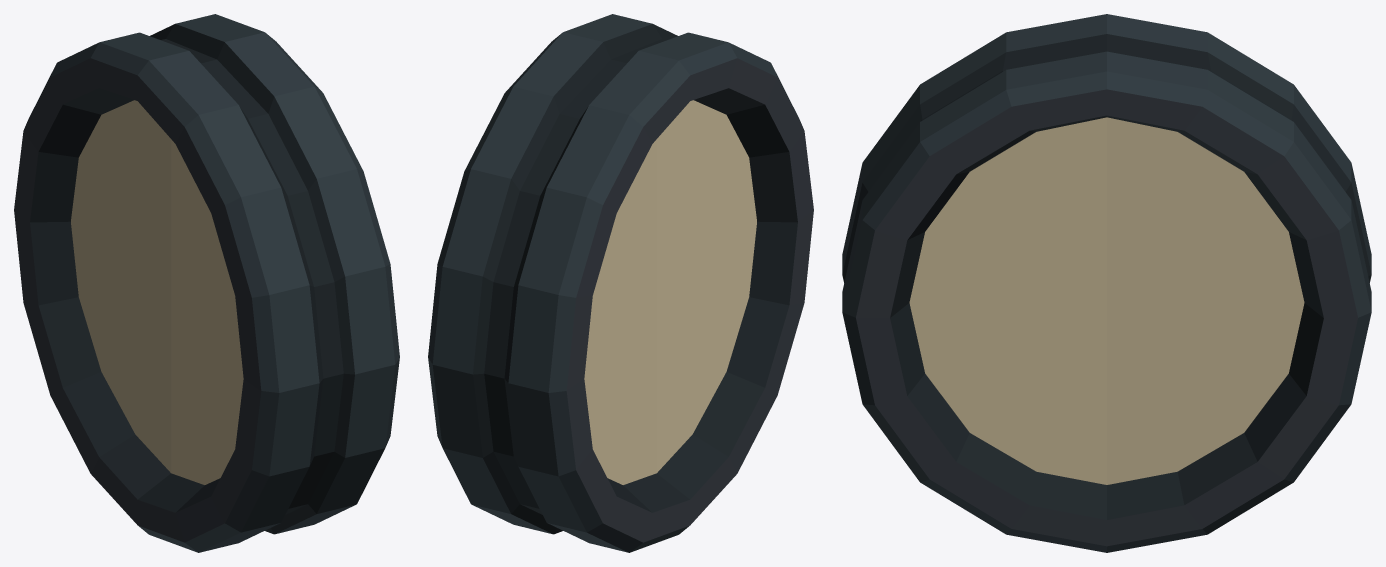
File: 3D_Clock.fbx
3 views of the same model, side by side, from view 1: azimuth 30°, elevation 25°; view 2: azimuth 150°, elevation 25°; view 3: azimuth 270°, elevation 25° (orthographic).
Parts seen in each view (by area): view 1: 3D_Clock; view 2: 3D_Clock; view 3: 3D_Clock.
Part boxes in pixels (box(x1,y1,x2,y2)): 3D_Clock: box(14, 14, 399, 552); 3D_Clock: box(428, 14, 813, 552); 3D_Clock: box(842, 14, 1371, 552).
Size of the model in its own units: 34.91 by 113 by 112.
